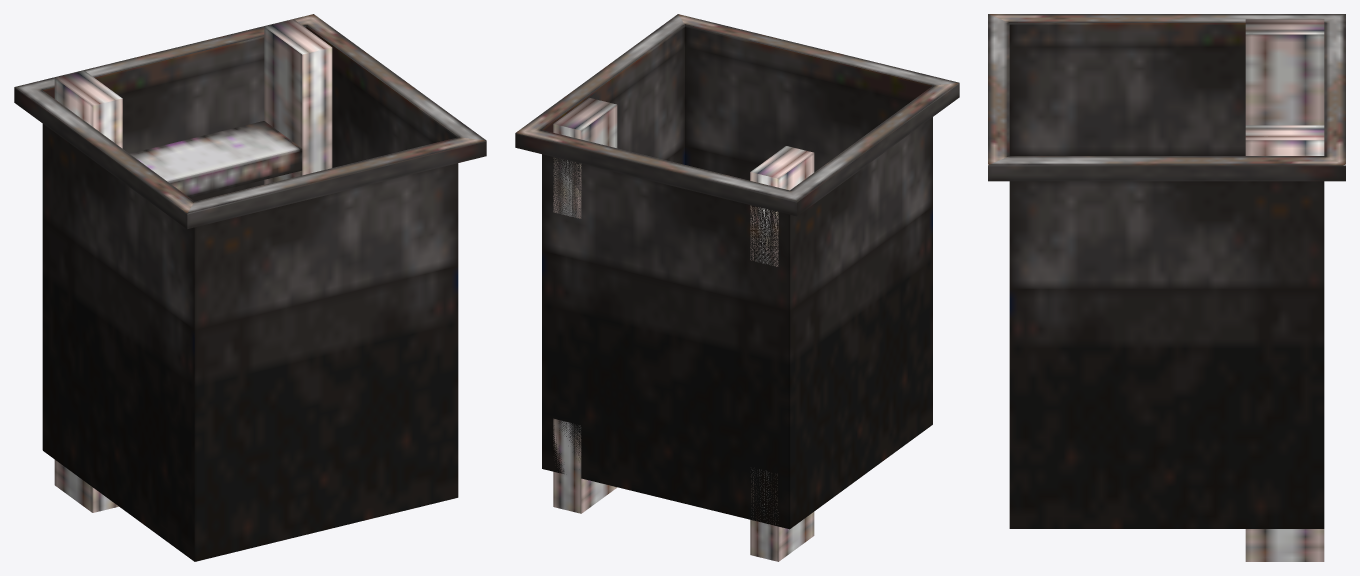
Rendered from Poly_SF_Outside_B_Hole_Metal_Stairs_01.obj.
The picture shows the model from 3 angles, left to right: view 1: azimuth 30°, elevation 25°; view 2: azimuth 150°, elevation 25°; view 3: azimuth 270°, elevation 25°; orthographic projection. The views are drawn at different scales.
Visible parts, largest first — view 1: Cube, Cube.001; view 2: Cube, Cube.001; view 3: Cube, Cube.001.
Part boxes in pixels (<box>): Cube: <box>14,14,486,561</box>; Cube.001: <box>54,19,332,512</box>; Cube: <box>515,14,959,529</box>; Cube.001: <box>553,97,814,561</box>; Cube: <box>988,14,1345,528</box>; Cube.001: <box>1245,19,1324,561</box>.
Bounding box in the file's own units: 1 × 1.3 × 1.
Materials: 1 (1 with a texture image).
